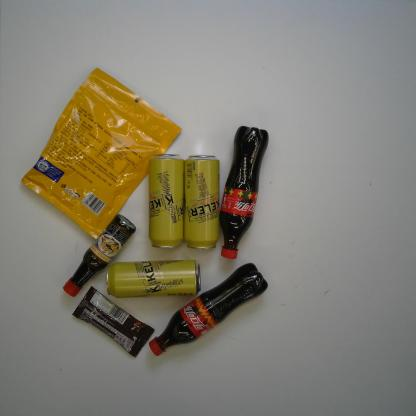Alcohol: (106, 259, 201, 299), (183, 154, 221, 250), (148, 153, 186, 249)
Chocolate: (72, 286, 155, 358)
Dried Fruit: (21, 67, 183, 241)
Drink: (148, 262, 268, 356), (219, 125, 270, 259)
Seasoner: (63, 214, 136, 298)
